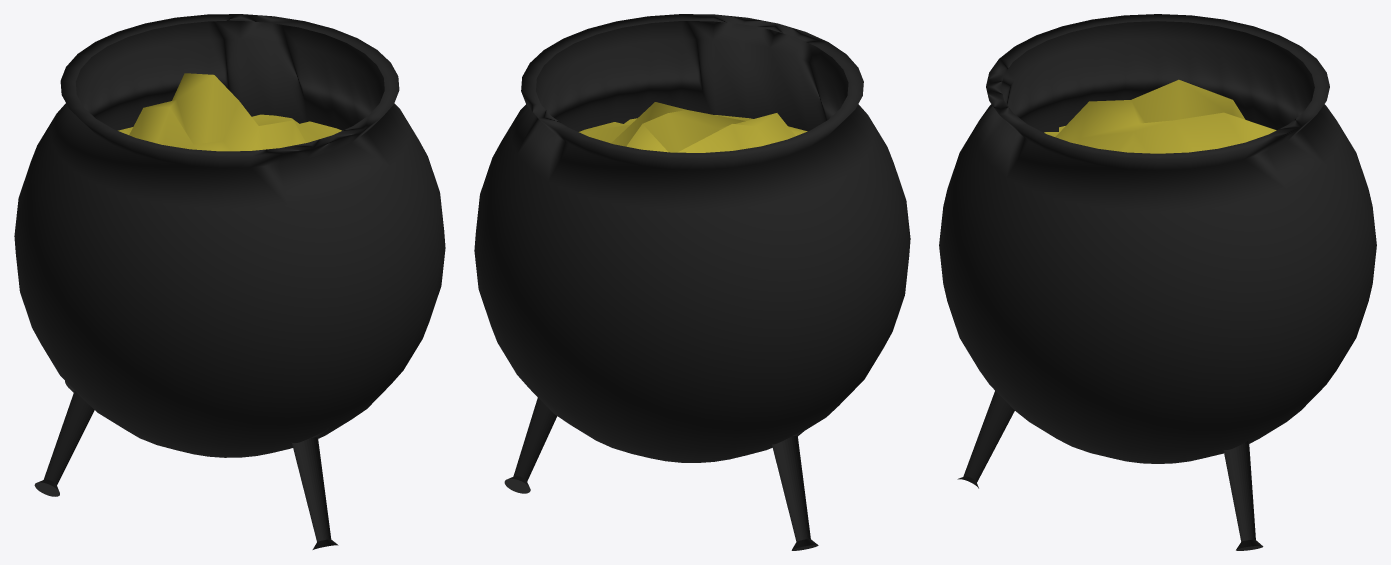
File: cauldron.fbx
3 renders of one model, left to right at view 1: azimuth 30°, elevation 25°; view 2: azimuth 150°, elevation 25°; view 3: azimuth 270°, elevation 25°, orthographic.
Parts seen in each view (by area): view 1: caldron, gold, leg1.002, leg1; view 2: caldron, gold, leg1, leg1.001; view 3: caldron, gold, leg1.001, leg1.002.
Boxes of the visible parts, <box> form: caldron: <box>14,14,445,457</box>; gold: <box>118,73,341,151</box>; leg1.002: <box>291,427,338,549</box>; leg1: <box>34,381,94,496</box>; caldron: <box>474,14,910,462</box>; gold: <box>579,102,807,152</box>; leg1: <box>772,425,818,550</box>; leg1.001: <box>504,397,557,493</box>; caldron: <box>939,14,1376,463</box>; gold: <box>1044,79,1276,153</box>; leg1.001: <box>1223,440,1263,550</box>; leg1.002: <box>957,391,1014,488</box>.
Bounding box in the file's own units: 200 × 204 × 200.
